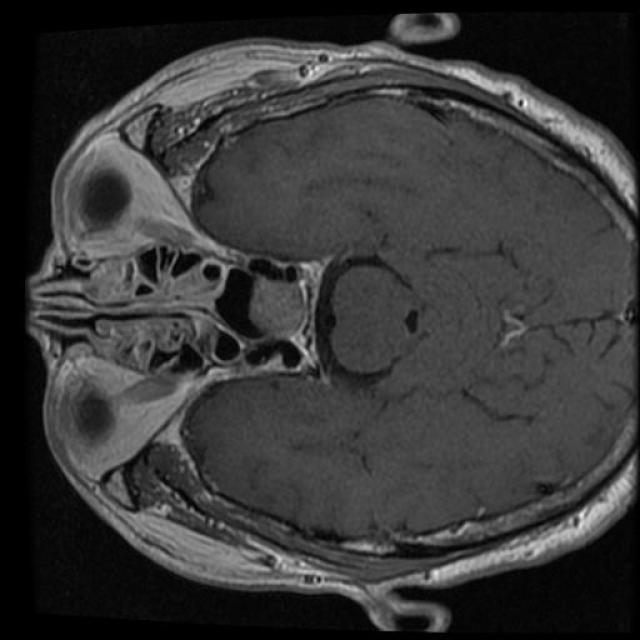Pituitary: (247, 279, 304, 337)
